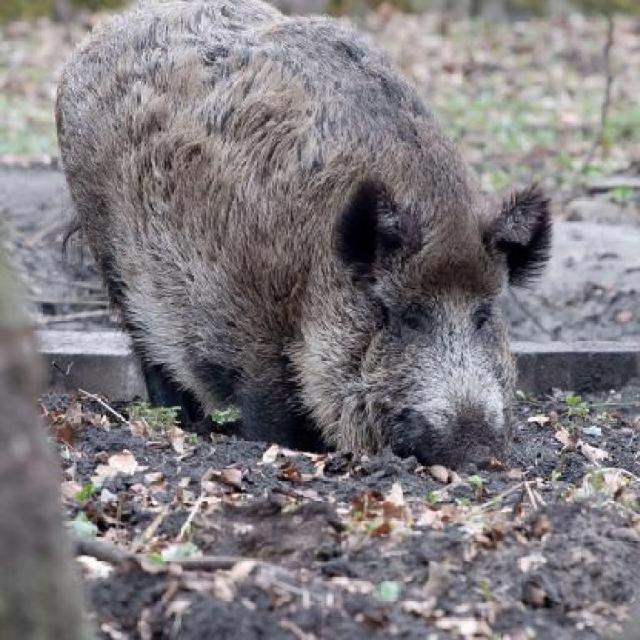wildboar: (46, 0, 566, 474)
